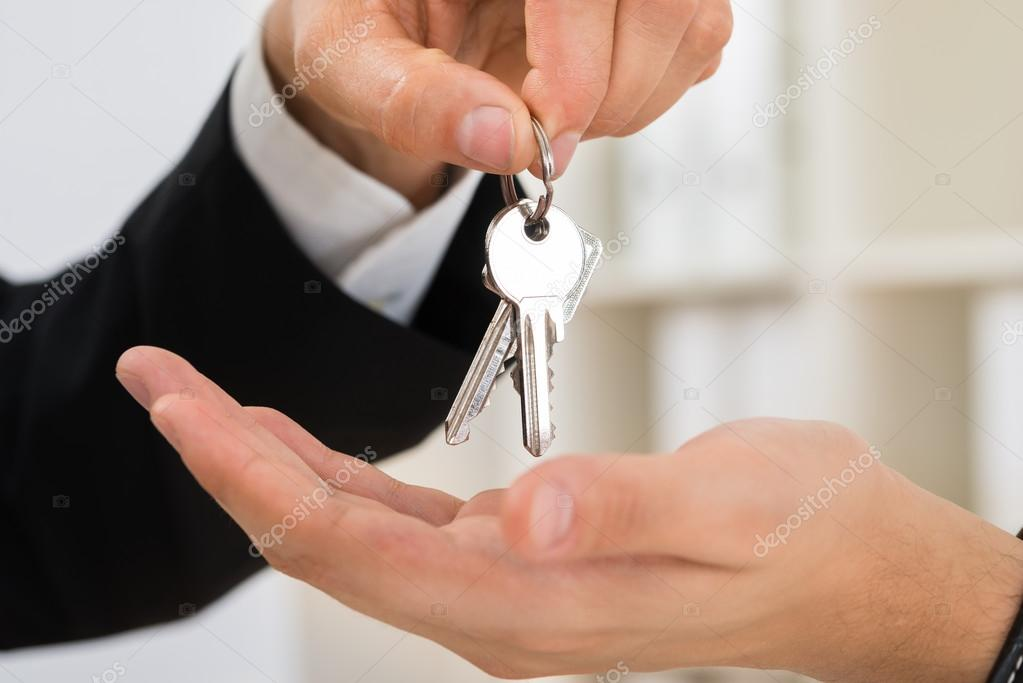key: (443, 218, 600, 447), (484, 199, 589, 455)
